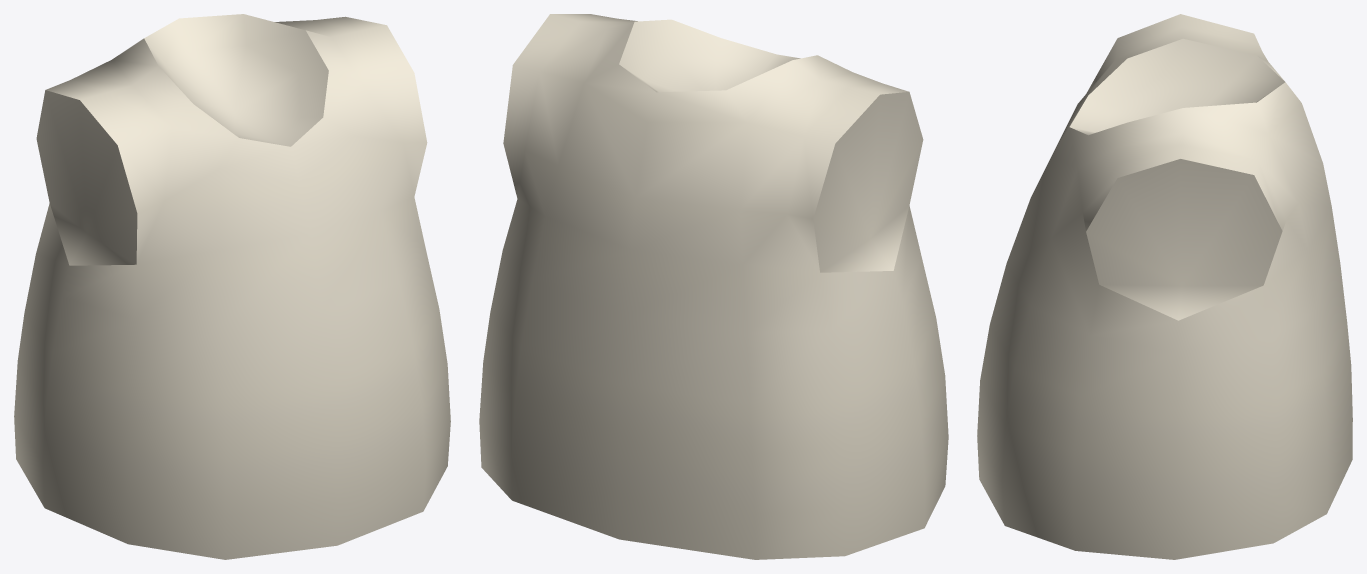
The model's file is Top_01.fbx.
3 renders of one model, left to right at view 1: azimuth 30°, elevation 25°; view 2: azimuth 150°, elevation 25°; view 3: azimuth 270°, elevation 25°, orthographic. The views are drawn at different scales.
Parts seen in each view (by area): view 1: Top_01; view 2: Top_01; view 3: Top_01.
Part boxes in pixels (<box>): Top_01: <box>14,14,450,559</box>; Top_01: <box>479,14,948,559</box>; Top_01: <box>977,14,1352,559</box>.
Size of the model in its own units: 41 by 42.68 by 35.79.
